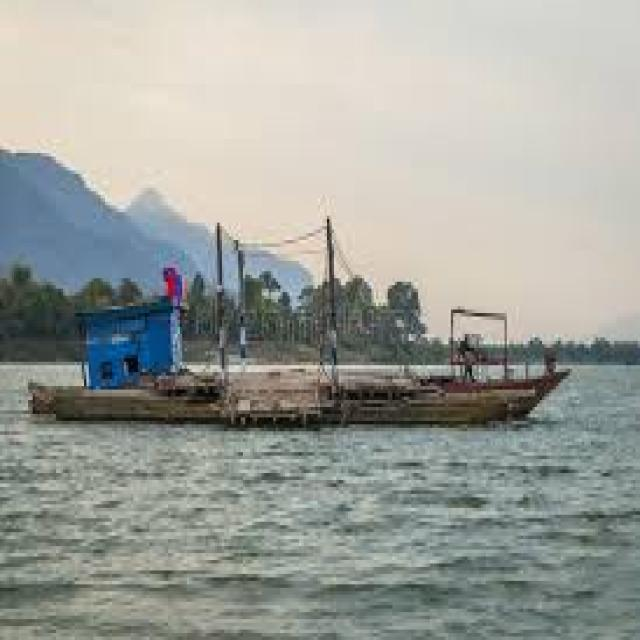fishing boat: (69, 220, 555, 448)
